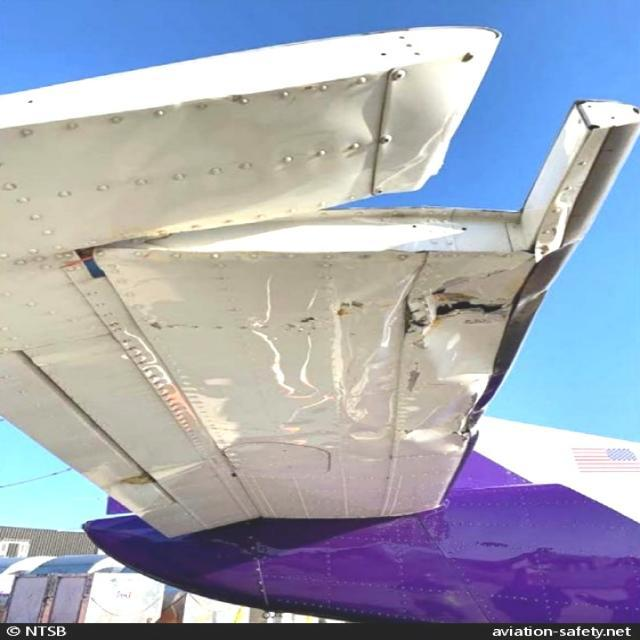dent: (416, 417, 469, 459)
